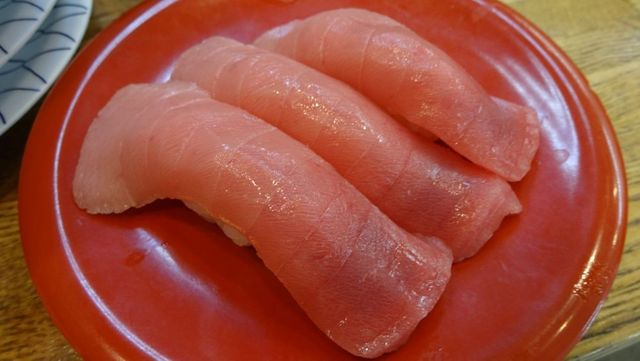medium_fatty_tuna: (79, 103, 429, 346)
